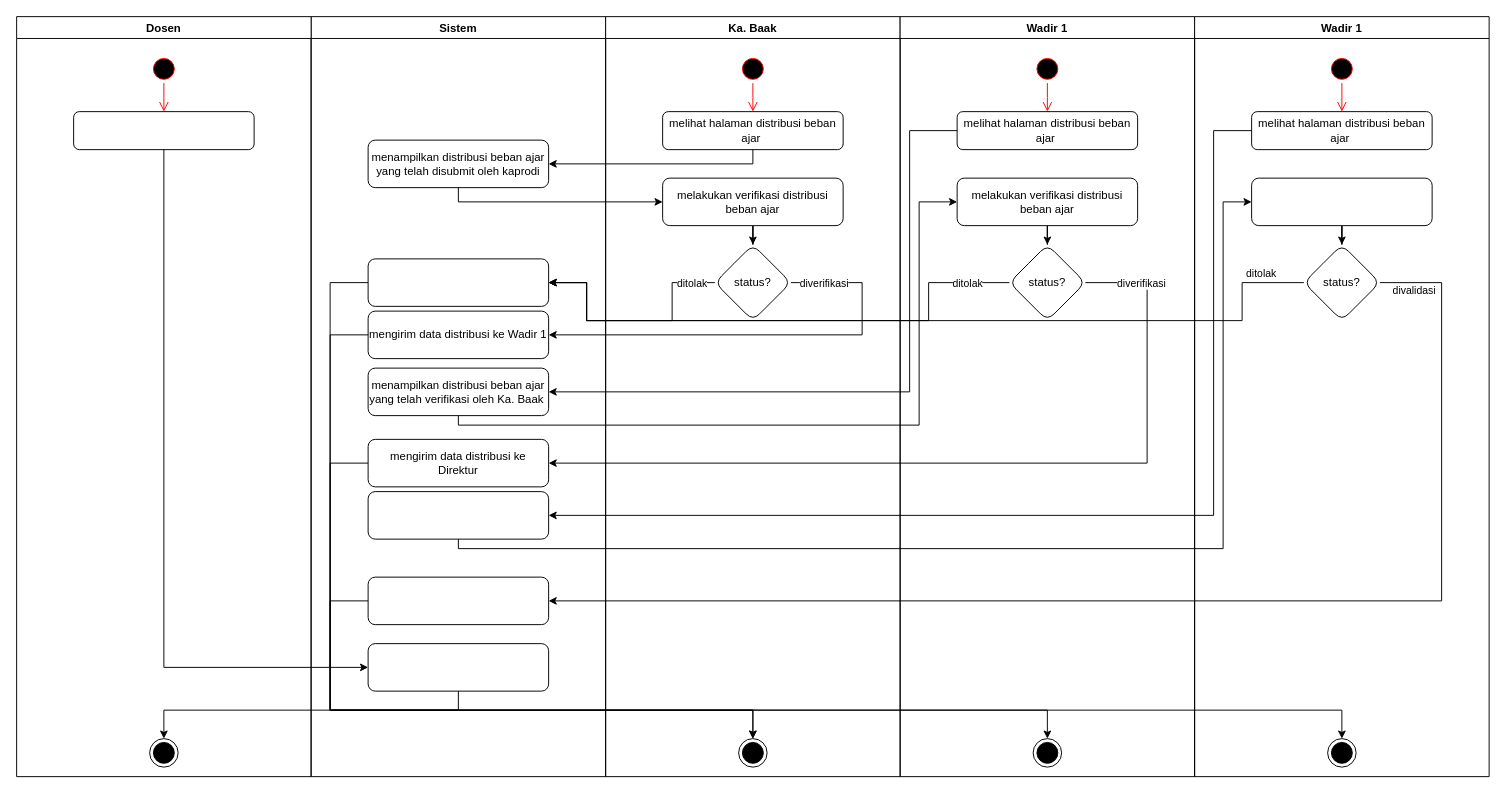
Some shapes in this 1506 by 793 pixel diagram are drawn without their labels. Each missing label, with the centre of its shape:
"melakukan validasi distribusi beban ajar" belongs at [1341,201].
"melihat SK" belongs at [163,130].
"menampilkan distribusi beban ajar yang telah verifikasi oleh Wadir 1" belongs at [458,515].
"menampilkan SK" belongs at [458,667].
"mengembalikan data distribusi beban ajar ke kaprodi" belongs at [458,282].
"mengirim data distribusi ke Dosen" belongs at [458,600].
